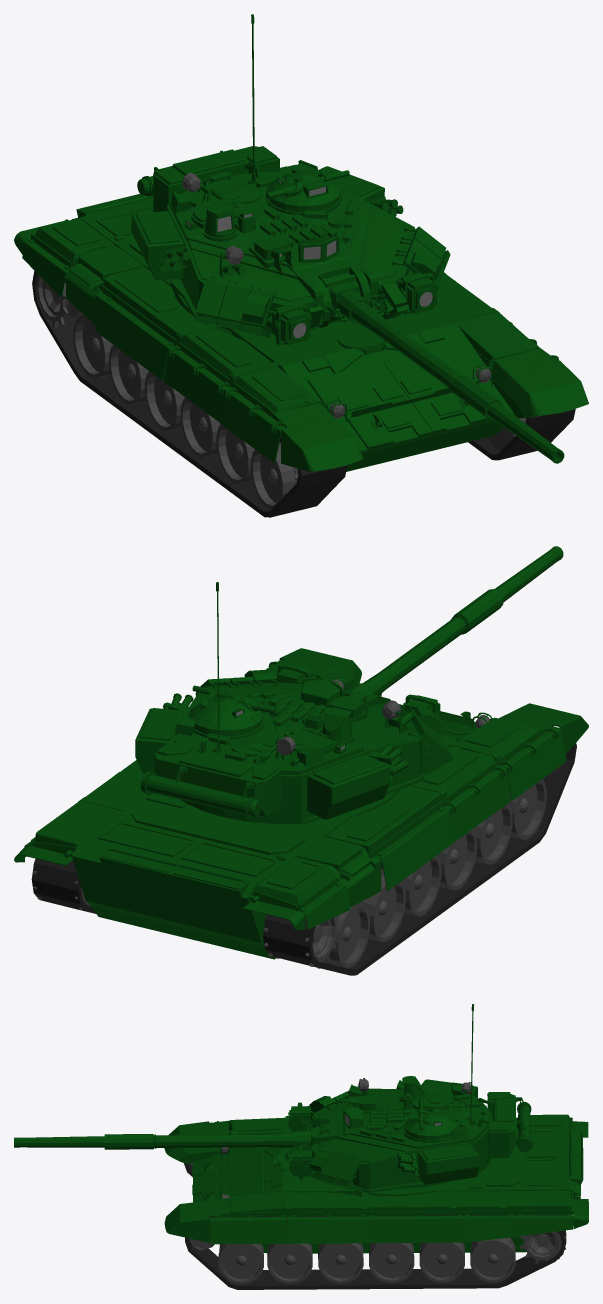
3 views of the same model, one above another, from view 1: azimuth 30°, elevation 25°; view 2: azimuth 150°, elevation 25°; view 3: azimuth 270°, elevation 25° (orthographic). The views are drawn at different scales.
Parts seen in each view (by area): view 1: body, gun_board, plane_right, gun, whr1, plane_left, whr6, whr3, whr4, whr5, whr2, whr7 (+1 smaller); view 2: body, gun_board, plane_right, gun, plane_left, whr6, whr5, whr4, whr2, whr3, whr1, whr7; view 3: body, gun_board, plane_left, gun, whl6, whl3, whl5, whl2, whl1, whl4, whl7.
Part boxes in pixels (box(x1,y1,x2,y2)): body: box(14, 164, 588, 471); gun_board: box(131, 146, 450, 345); plane_right: box(32, 271, 347, 517); gun: box(324, 273, 564, 463); whr1: box(250, 442, 296, 509); plane_left: box(468, 409, 575, 460); whr6: box(73, 314, 112, 378); whr3: box(180, 397, 220, 457); whr4: box(144, 371, 184, 431); whr5: box(109, 344, 148, 405); whr2: box(216, 424, 254, 484); whr7: box(33, 274, 79, 328); body: box(14, 648, 588, 959); gun_board: box(135, 664, 453, 824); plane_right: box(263, 727, 576, 975); gun: box(343, 546, 563, 695); plane_left: box(31, 859, 95, 913); whr6: box(322, 903, 369, 968); whr5: box(359, 874, 405, 942); whr4: box(381, 855, 441, 916); whr2: box(472, 803, 512, 864); whr3: box(437, 829, 476, 890); whr1: box(508, 779, 546, 839); whr7: box(263, 915, 340, 968); body: box(164, 1114, 588, 1253); gun_board: box(285, 1076, 533, 1192); plane_left: box(185, 1215, 566, 1289); gun: box(14, 1122, 329, 1149); whl6: box(470, 1237, 515, 1282); whl3: box(318, 1243, 363, 1283); whl5: box(419, 1242, 464, 1282); whl2: box(267, 1231, 312, 1283); whl1: box(218, 1244, 263, 1284); whl4: box(369, 1243, 414, 1283); whl7: box(519, 1231, 565, 1263).
Size of the model in its own units: 391 by 435 by 929.
